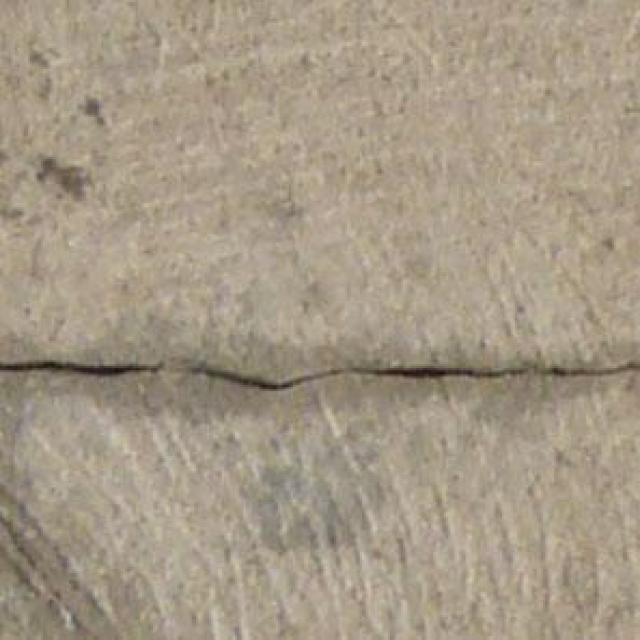horizontal crack: (0, 354, 638, 391)
